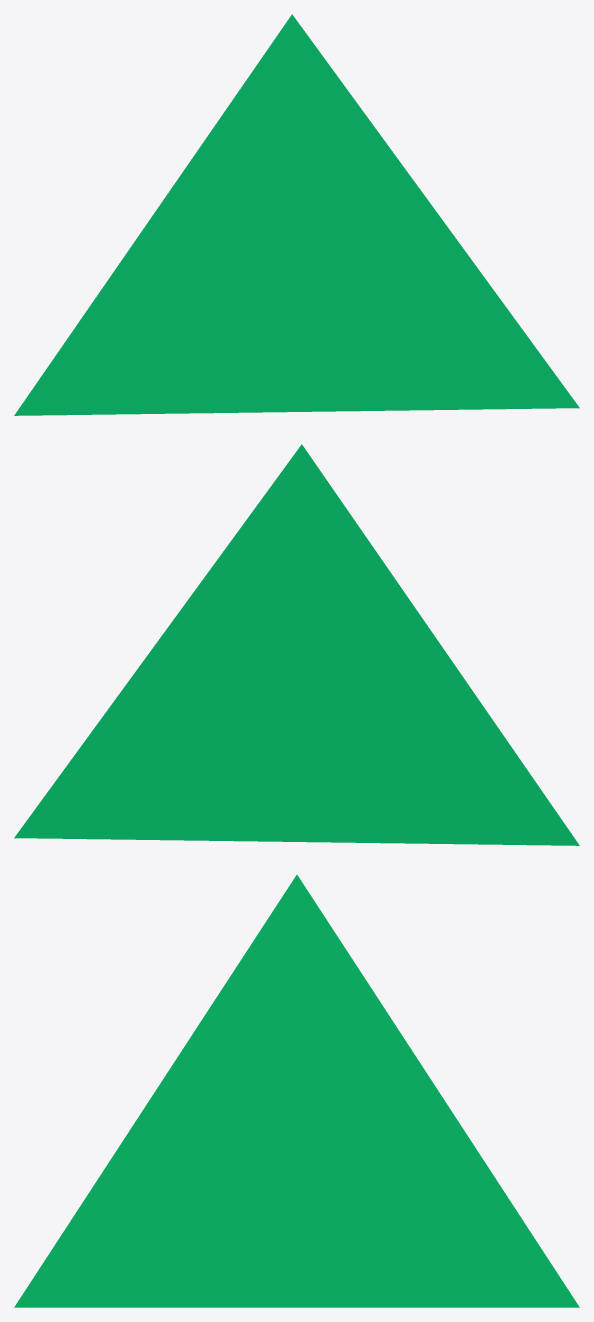
File: pump.glb
The picture shows the model from 3 angles, top to bottom: view 1: azimuth 30°, elevation 25°; view 2: azimuth 150°, elevation 25°; view 3: azimuth 270°, elevation 25°; orthographic projection. The views are drawn at different scales.
Visible parts, largest first — view 1: pump; view 2: pump; view 3: pump.
Part boxes in pixels (bbox=[...]): pump: bbox=[14, 14, 579, 415]; pump: bbox=[14, 444, 579, 845]; pump: bbox=[14, 875, 579, 1307].
Bounding box in the file's own units: 1.87 × 1.38 × 2.
